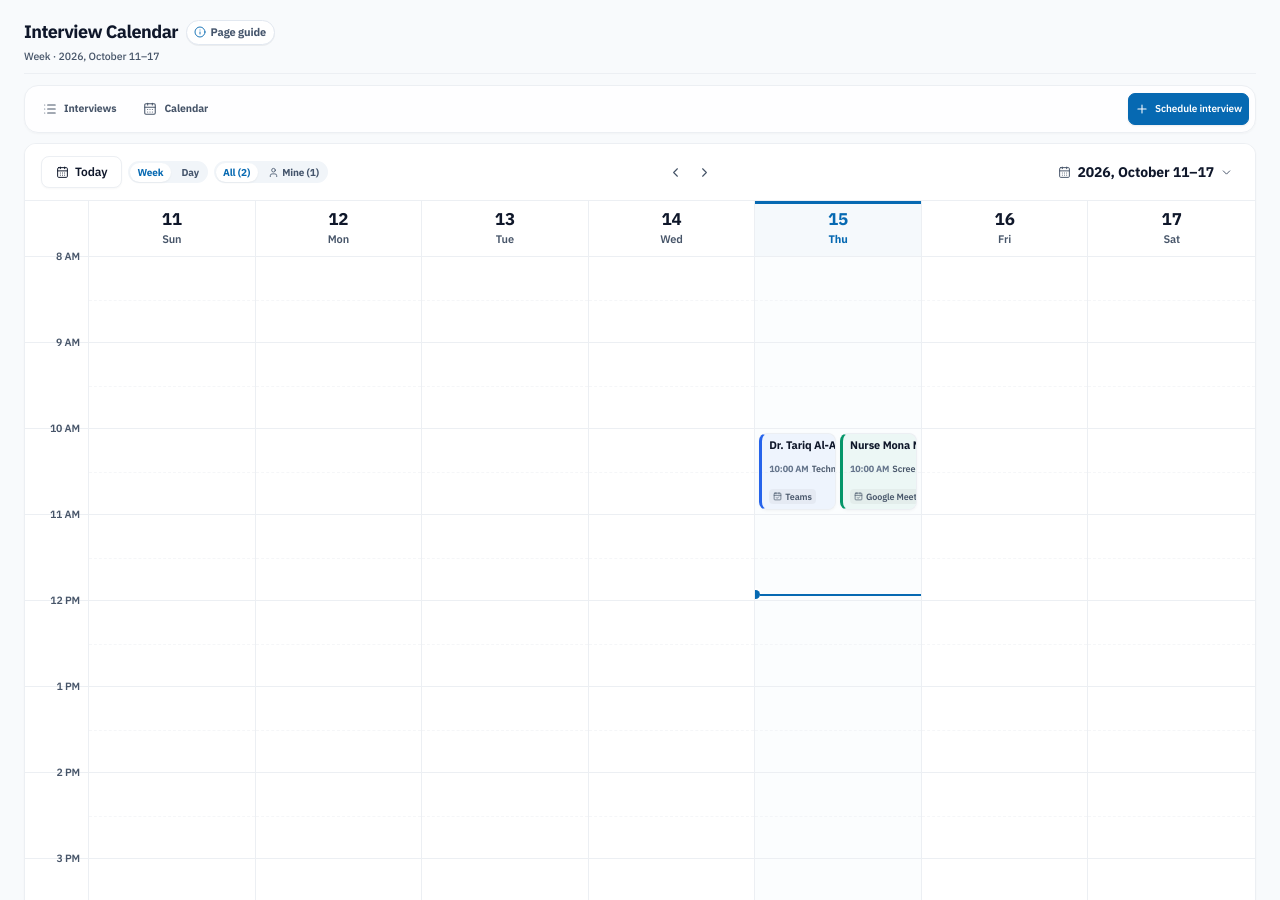
Test: InterviewCalendarPage › opens FastScorecardModal directly from Quick-View Modal
Expected: the text "Dr. Tariq Al-Amri" is shown, left=769, top=439, right=836, bottom=453
Click the button "Dr. Tariq Al-Amri" at (798, 472), box left=759, top=433, right=836, bottom=510
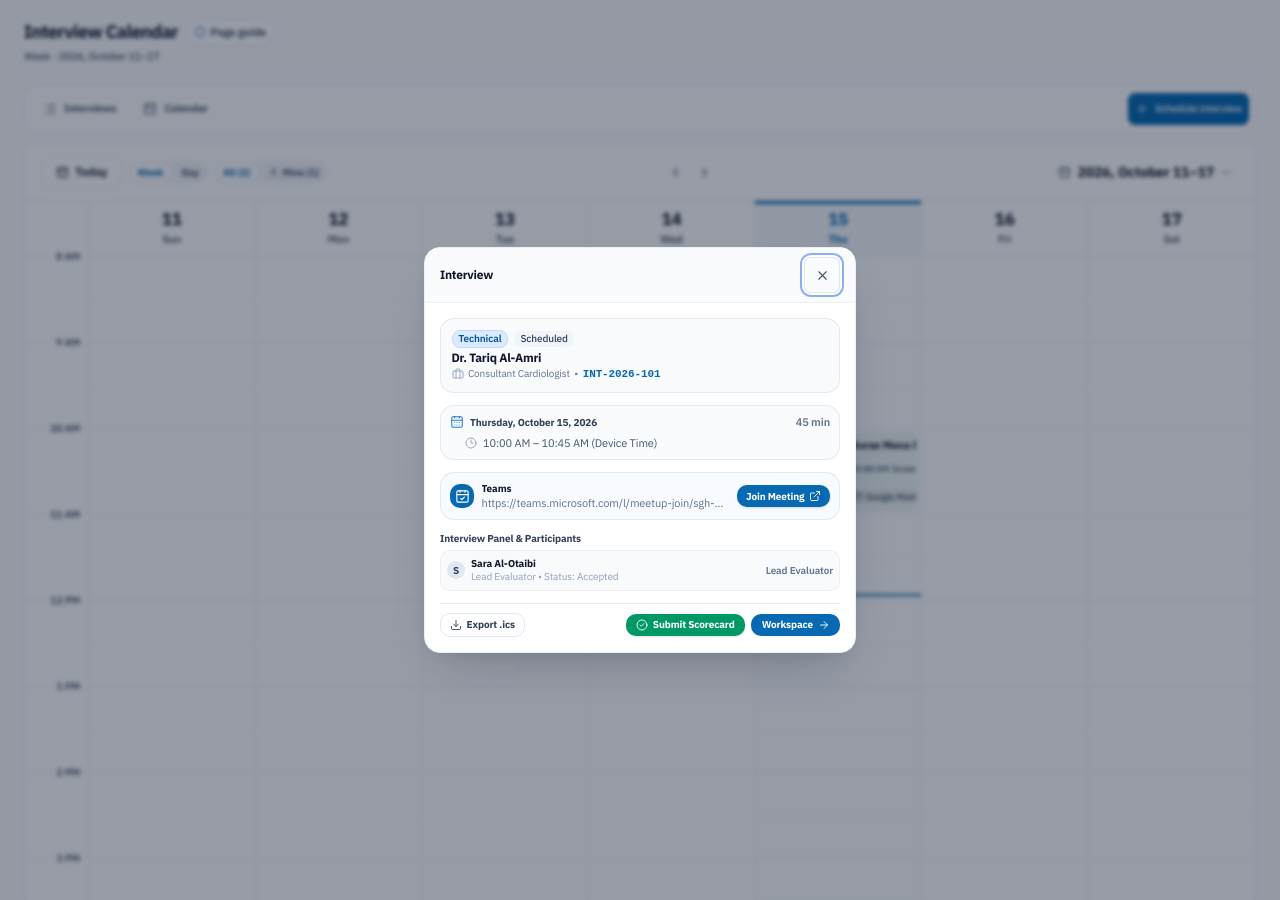
Expected: the button "Submit Scorecard" is shown
# Click Submit Scorecard
Click the button "Submit Scorecard" at (686, 625), box left=626, top=614, right=745, bottom=636
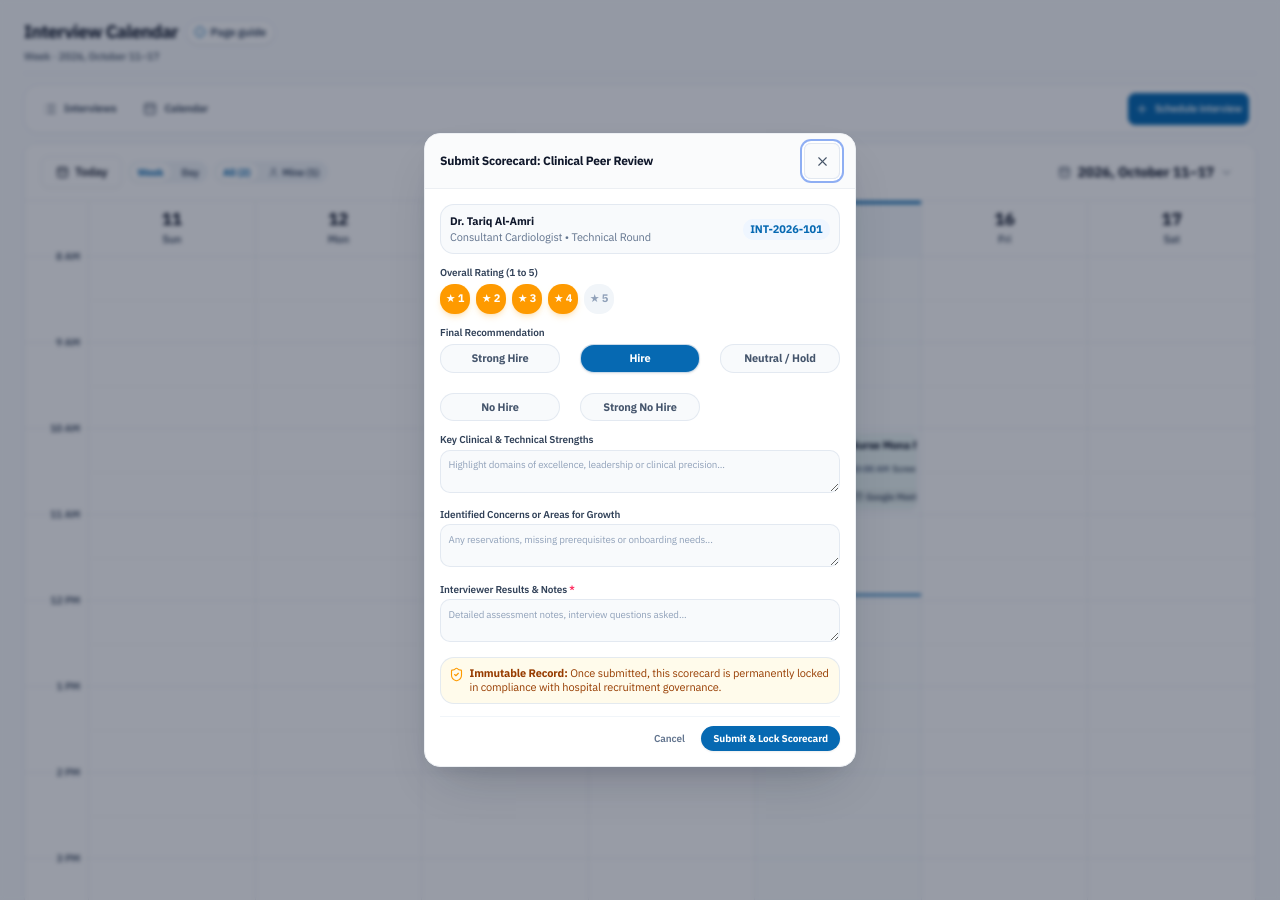
Expected: the heading "Submit Scorecard: Clinical Peer Review" is shown, left=440, top=152, right=653, bottom=170
Expected: the text "Immutable Record:" is shown, left=470, top=666, right=568, bottom=680
